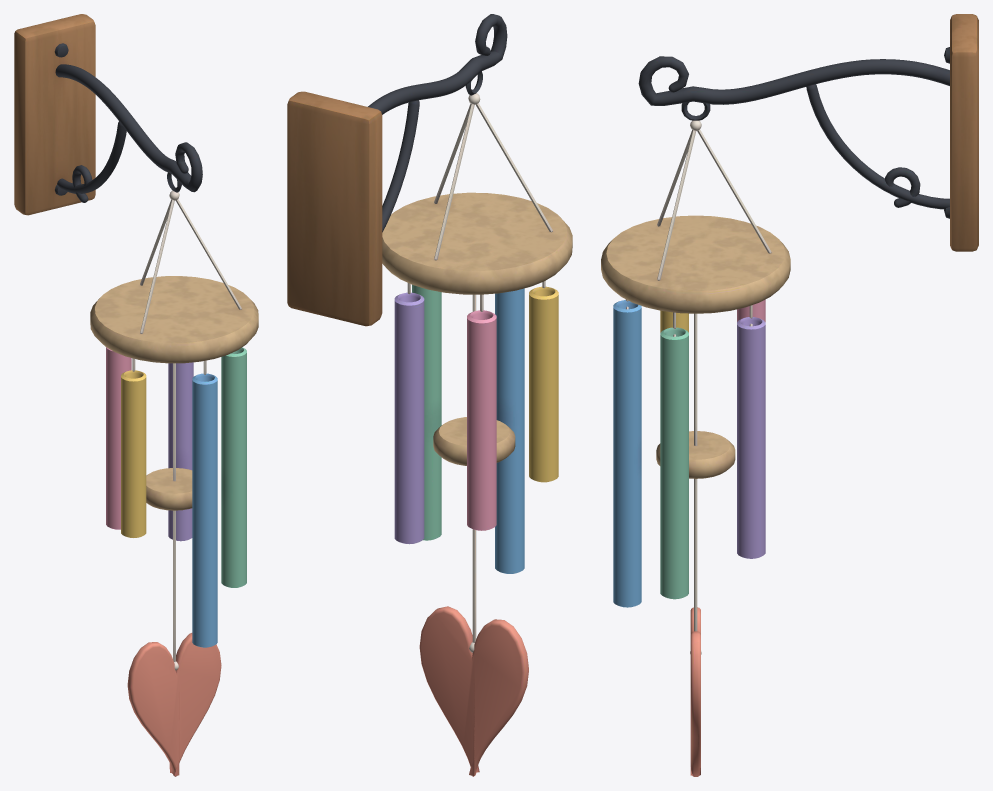
File: wind-chime.glb
3 views of the same model, side by side, from view 1: azimuth 30°, elevation 25°; view 2: azimuth 150°, elevation 25°; view 3: azimuth 270°, elevation 25° (orthographic). The views are drawn at different scales.
Visible parts, largest first — view 1: wind-chime_body; view 2: wind-chime_body; view 3: wind-chime_body.
Part boxes in pixels (x1=…): wind-chime_body: x1=14, y1=14, x2=258, y2=776; wind-chime_body: x1=287, y1=14, x2=572, y2=776; wind-chime_body: x1=601, y1=14, x2=978, y2=776.
Size of the model in its own units: 0.144 by 0.625 by 0.287.
Materials: 1 (1 with a texture image).
